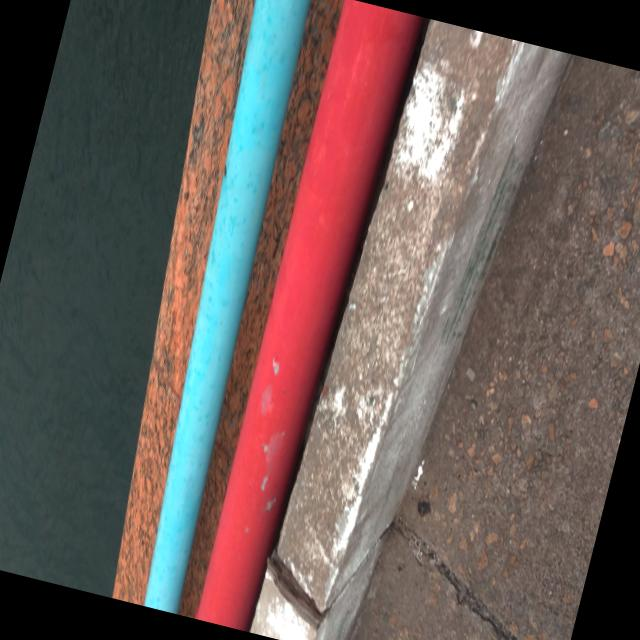gas: (101, 0, 337, 615), (193, 0, 416, 635)
